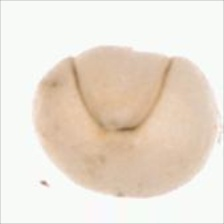L5: (67, 45, 177, 135), (89, 186, 170, 202)
L6: (30, 44, 217, 208)
